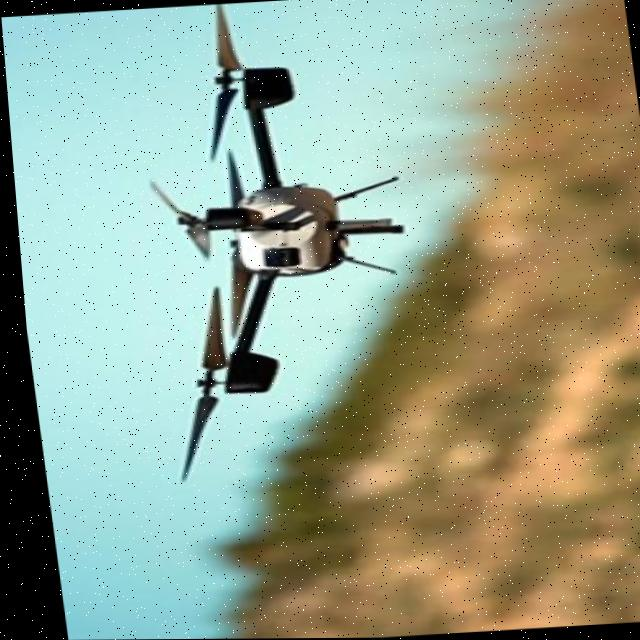drones: (50, 0, 481, 487)
